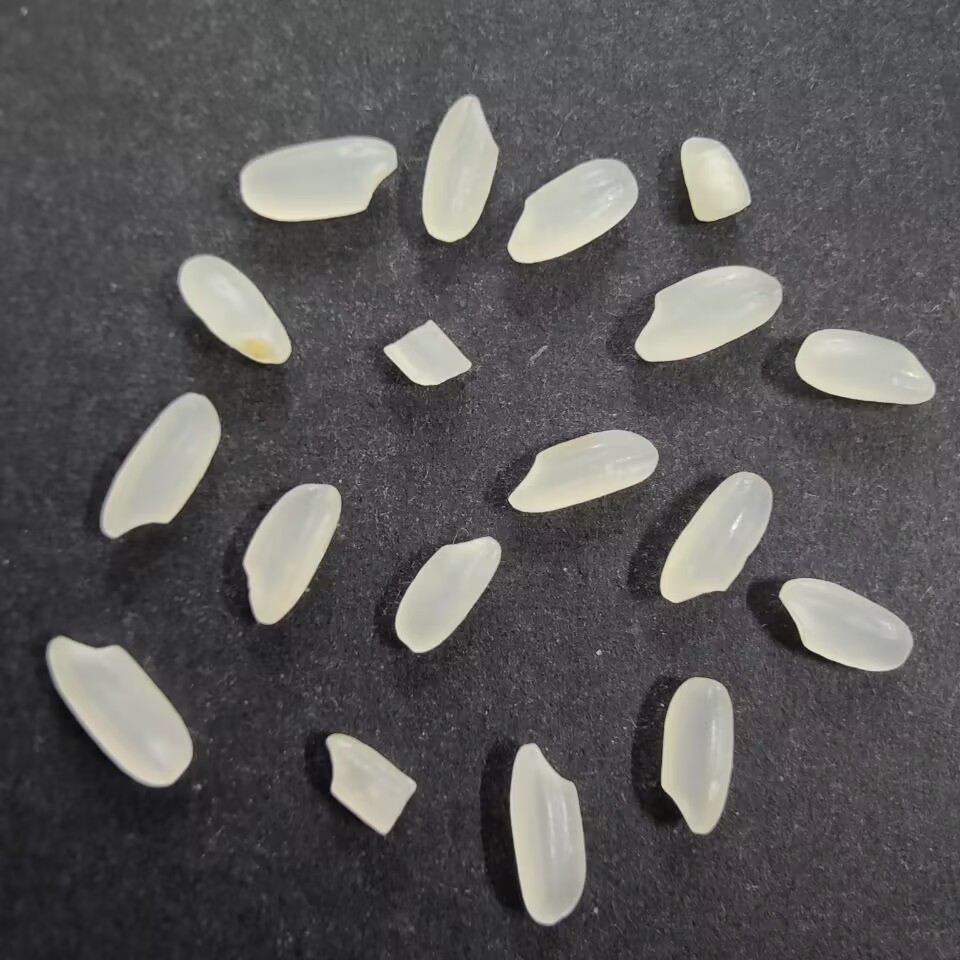broken: (320, 728, 419, 837), (678, 135, 753, 225), (378, 318, 472, 389)
rice: (40, 631, 197, 791), (97, 385, 222, 547), (504, 740, 591, 929), (628, 262, 784, 364), (656, 468, 772, 604), (236, 481, 343, 628), (233, 131, 401, 223), (505, 155, 641, 264), (502, 426, 663, 515), (773, 576, 917, 673), (174, 253, 293, 365), (392, 535, 504, 652), (657, 674, 736, 839), (790, 325, 941, 406), (418, 93, 498, 244)
